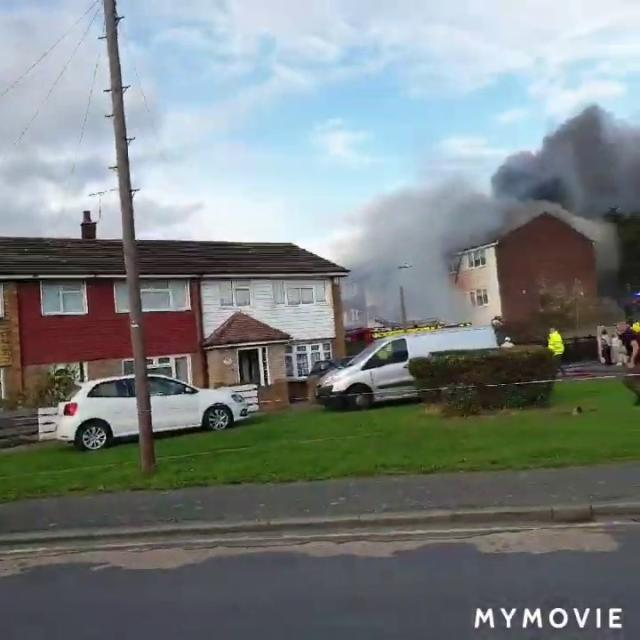Smoke: (334, 150, 498, 322), (490, 89, 640, 225)
